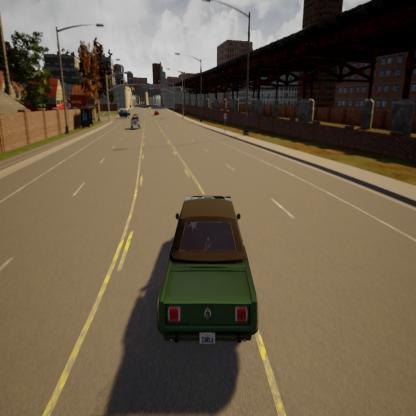Cars: (149, 185, 262, 365), (130, 113, 142, 132), (118, 107, 132, 122), (153, 108, 160, 116)
